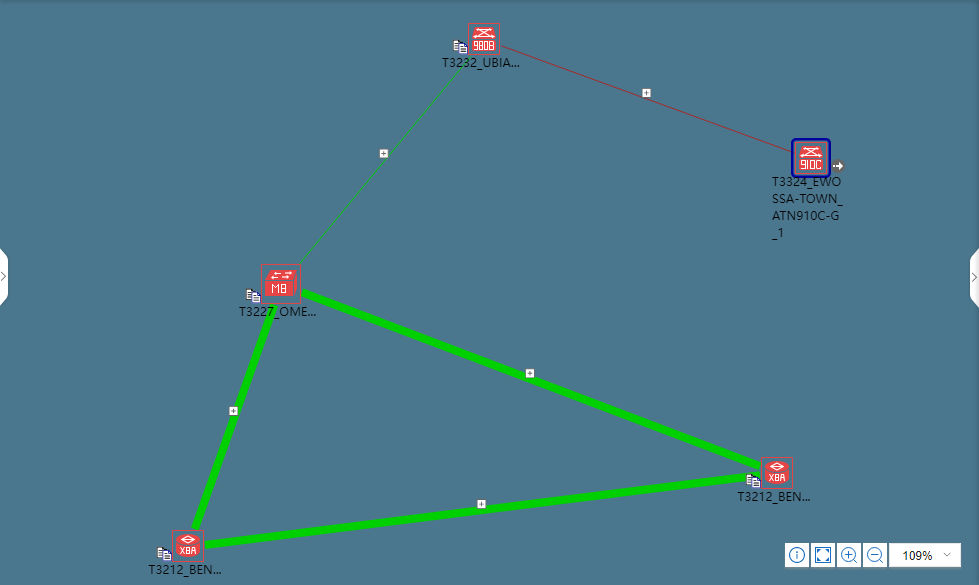ATN_Red: (798, 143, 828, 172), (468, 26, 496, 55)
Link_Green: (303, 283, 759, 471), (205, 473, 756, 551), (297, 57, 468, 263), (193, 308, 277, 527)
Link_Red: (505, 45, 789, 152)
Router_Red: (762, 461, 791, 490), (174, 534, 202, 563)
Switch_Red: (260, 265, 301, 299)
